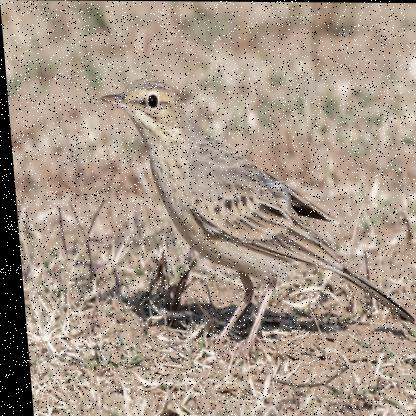Burung: (94, 78, 412, 362)
